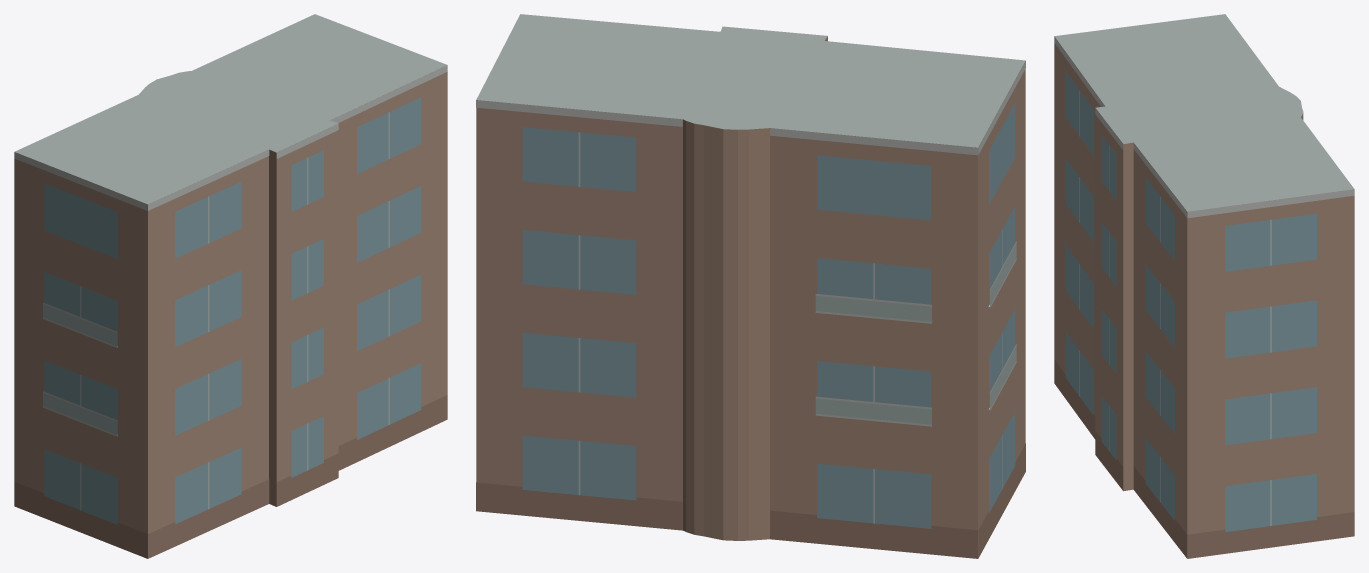
Rendered from survey-upis-32953436.glb.
3 renders of one model, left to right at view 1: azimuth 30°, elevation 25°; view 2: azimuth 150°, elevation 25°; view 3: azimuth 270°, elevation 25°, orthographic. The views are drawn at different scales.
Visible parts, largest first — view 1: survey-upis-32953436.tmp; view 2: survey-upis-32953436.tmp; view 3: survey-upis-32953436.tmp.
Boxes of the visible parts, left/top/right/bottom form: survey-upis-32953436.tmp: left=14, top=14, right=447, bottom=558; survey-upis-32953436.tmp: left=476, top=14, right=1025, bottom=558; survey-upis-32953436.tmp: left=1054, top=14, right=1354, bottom=558.
Bounding box in the file's own units: 16.02 × 13.1 × 10.28.
